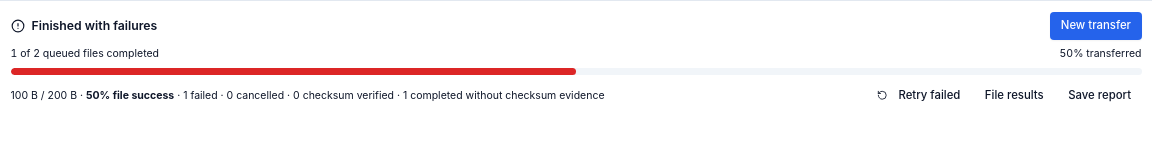
truthful transfer results › retries only failed controllable jobs and surfaces a rejected retry
The image size is (1152, 160).
Click the button "Retry failed": (919, 96) x1=867 y1=82 x2=971 y2=110
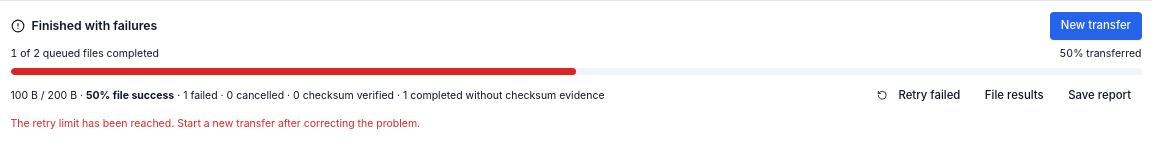
Result: the 2nd message shows "retry limit" at x1=10 y1=116 x2=420 y2=130
